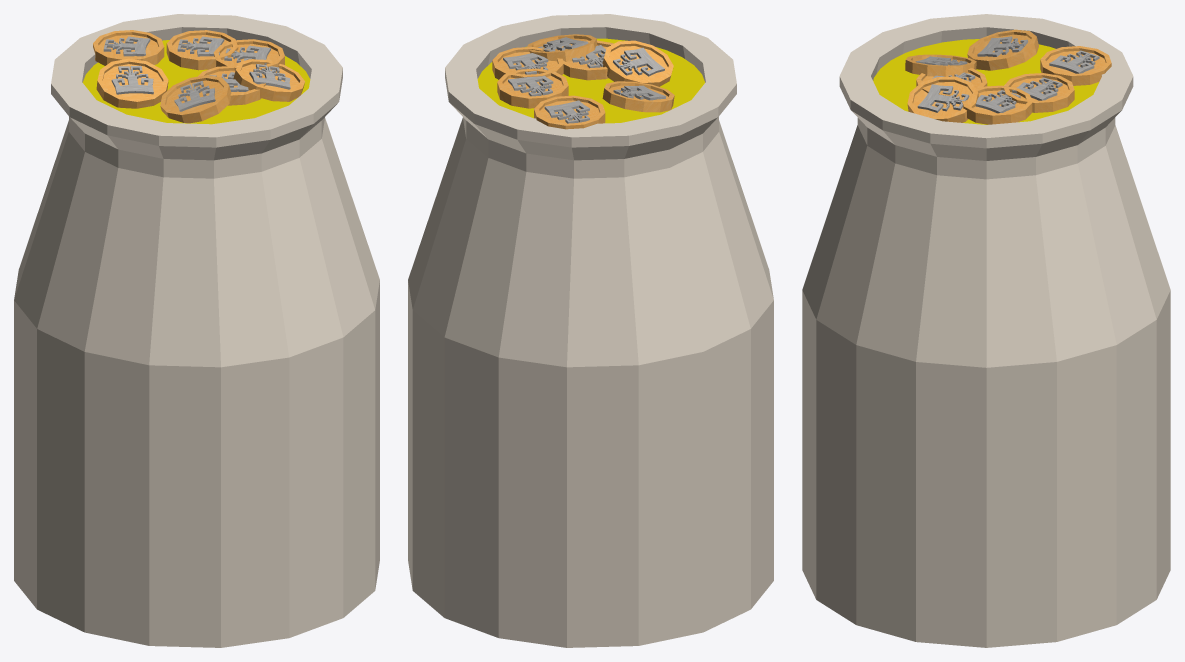
File: jar-phase6.glb
The picture shows the model from 3 angles, left to right: view 1: azimuth 30°, elevation 25°; view 2: azimuth 150°, elevation 25°; view 3: azimuth 270°, elevation 25°; orthographic projection.
Visible parts, largest first — view 1: Circle, Circle.001, coin.003, coin.004, coin.005, coin, coin.002, coin.006, coin.001; view 2: Circle, Circle.001, coin.004, coin, coin.002, coin.003, coin.006, coin.005, coin.001; view 3: Circle, Circle.001, coin.005, coin.003, coin.002, coin, coin.006, coin.004, coin.001.
Part boxes in pixels (box(x1,y1,x2,y2)): Circle: box(14, 14, 379, 647); Circle.001: box(82, 40, 310, 124); coin.003: box(96, 58, 168, 108); coin.004: box(160, 75, 231, 123); coin.005: box(233, 59, 304, 101); coin: box(166, 30, 238, 70); coin.002: box(93, 30, 164, 65); coin.006: box(213, 39, 284, 69); coin.001: box(198, 65, 265, 105); Circle: box(408, 14, 773, 647); Circle.001: box(477, 38, 705, 123); coin.004: box(602, 40, 673, 86); coin: box(497, 68, 568, 108); coin.002: box(534, 95, 605, 129); coin.003: box(602, 81, 674, 112); coin.006: box(492, 47, 563, 79); coin.005: box(527, 34, 597, 61); coin.001: box(558, 40, 621, 80); Circle: box(802, 14, 1170, 647); Circle.001: box(873, 39, 1099, 124); coin.005: box(907, 76, 978, 122); coin.003: box(967, 29, 1038, 70); coin.002: box(1040, 46, 1111, 85); coin: box(1003, 73, 1074, 112); coin.006: box(961, 85, 1032, 124); coin.004: box(905, 54, 976, 76); coin.001: box(916, 68, 987, 96).
Size of the model in its own units: 2 by 3.03 by 2.
30 materials, 28 textured.
